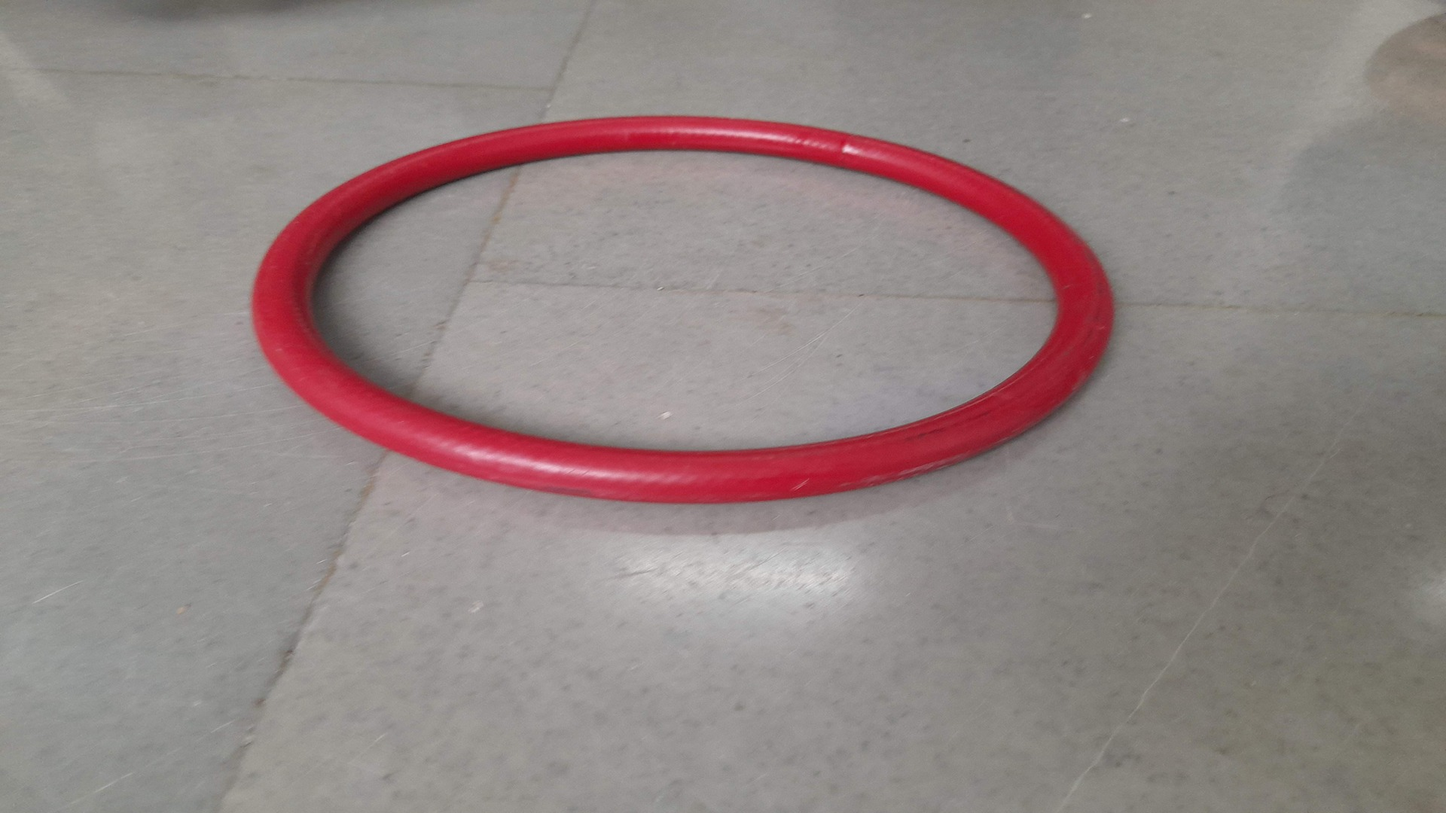Red ring: (251, 117, 1113, 497)
